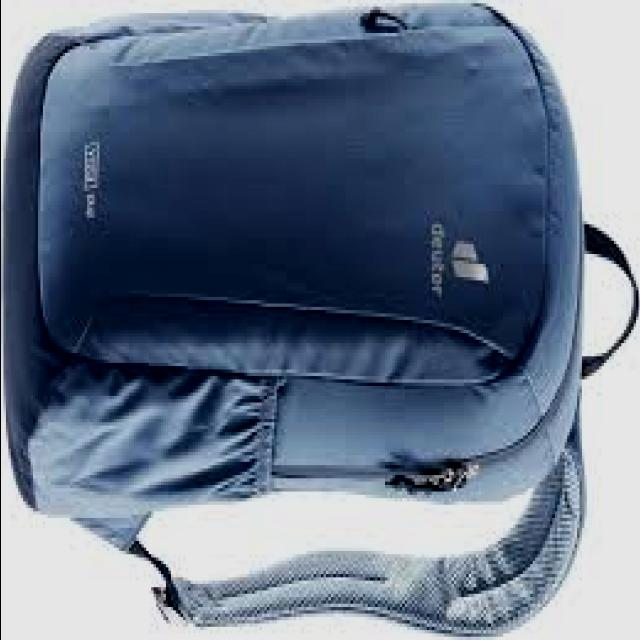backpack: (6, 2, 640, 638)
